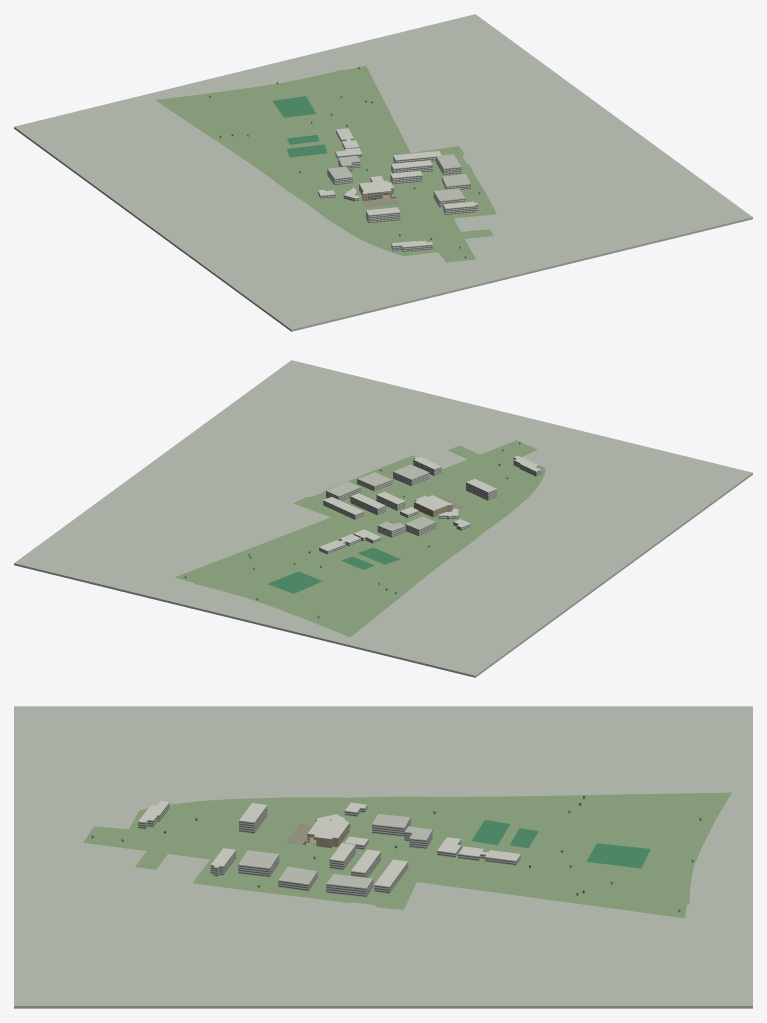
File: UAM_Iztapalapa.glb
3 views of the same model, one above another, from view 1: azimuth 30°, elevation 25°; view 2: azimuth 150°, elevation 25°; view 3: azimuth 270°, elevation 25° (orthographic). The views are drawn at different scales.
Parts seen in each view (by area): view 1: Base maqueta, Predio_aproximado, Cancha_aproximada_0; view 2: Base maqueta, Predio_aproximado, Cancha_aproximada_0; view 3: Base maqueta, Predio_aproximado, Cancha_aproximada_0, Azotea (×2), Cancha_aproximada_2.
Part boxes in pixels (x1,y1,x2,y2): Base maqueta: [14, 14, 752, 331]; Predio_aproximado: [155, 65, 496, 262]; Cancha_aproximada_0: [272, 96, 315, 117]; Base maqueta: [14, 360, 752, 677]; Predio_aproximado: [175, 440, 545, 637]; Cancha_aproximada_0: [268, 571, 322, 593]; Base maqueta: [14, 706, 752, 1008]; Predio_aproximado: [83, 792, 731, 918]; Cancha_aproximada_0: [586, 843, 650, 868]; Azotea (×2): [238, 817, 349, 868]; Cancha_aproximada_2: [471, 820, 510, 845].
Bounding box in the file's own units: 960 × 21.1 × 1000.
Materials: 24 (1 with a texture image).
